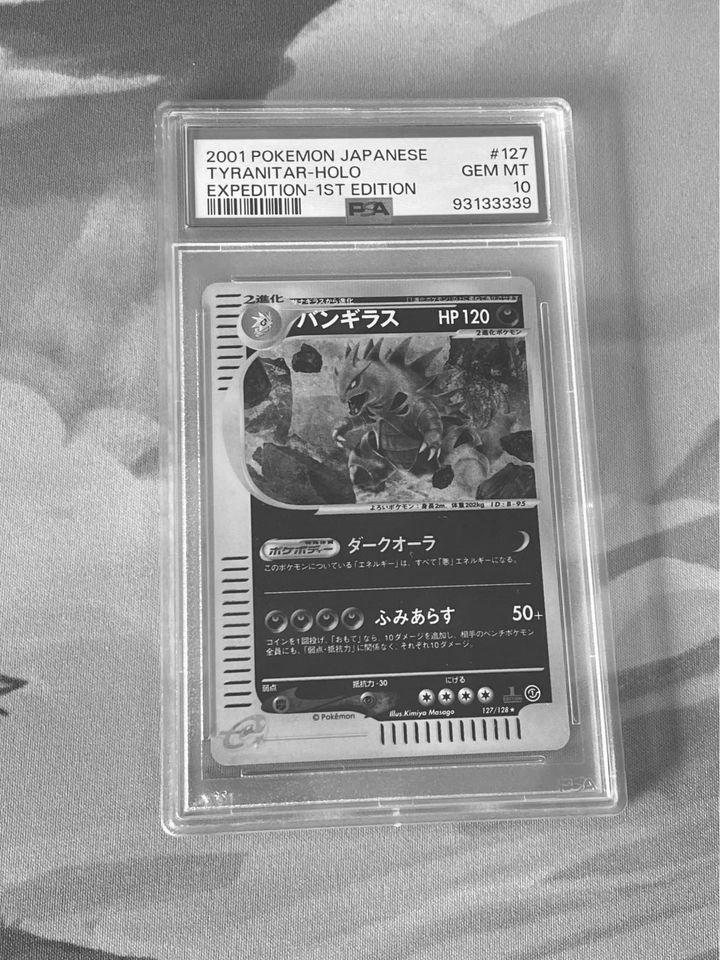card: (202, 276, 571, 767)
